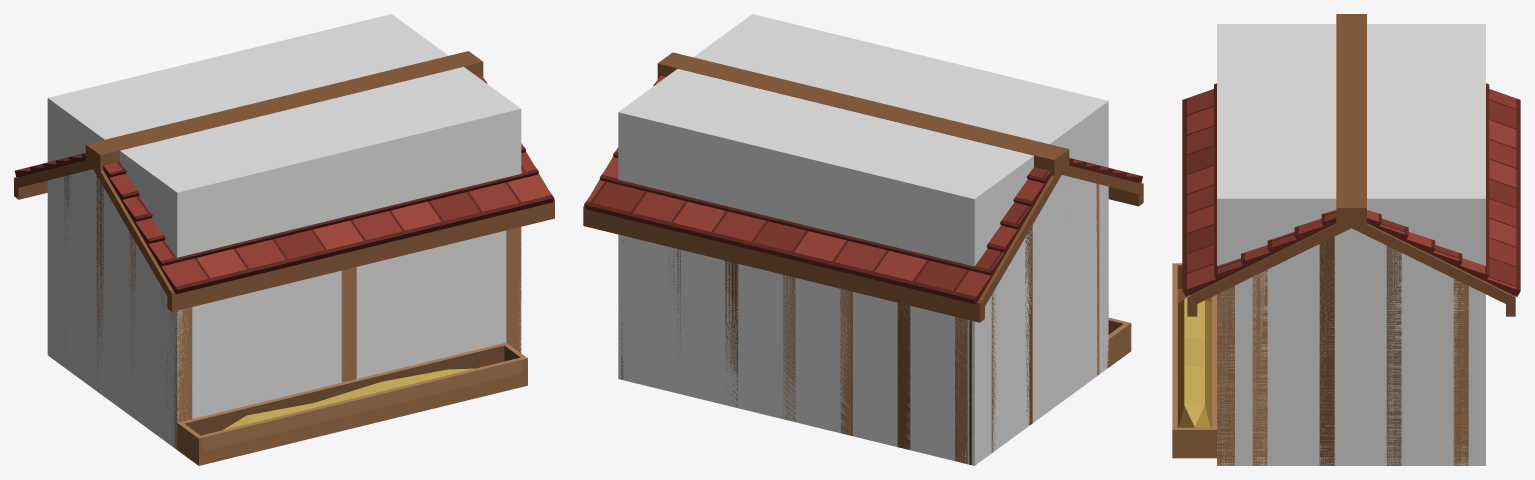
The model's file is FMS_Stable.fbx.
The picture shows the model from 3 angles, left to right: view 1: azimuth 30°, elevation 25°; view 2: azimuth 150°, elevation 25°; view 3: azimuth 270°, elevation 25°; orthographic projection. The views are drawn at different scales.
Parts seen in each view (by area): view 1: FMS_Stable_Col, FMS_Stable_LOD0; view 2: FMS_Stable_Col, FMS_Stable_LOD0; view 3: FMS_Stable_Col, FMS_Stable_LOD0.
Boxes of the visible parts, x1,y1,x2,y2 form: FMS_Stable_Col: (47,14,521,449); FMS_Stable_LOD0: (14,51,554,465); FMS_Stable_Col: (618,14,1108,465); FMS_Stable_LOD0: (583,52,1143,464); FMS_Stable_Col: (1217,24,1485,465); FMS_Stable_LOD0: (1172,14,1520,465).
Size of what is drawn, in the model's own units: 5.12 by 3.29 by 3.89.
Materials: 1 (1 with a texture image).
